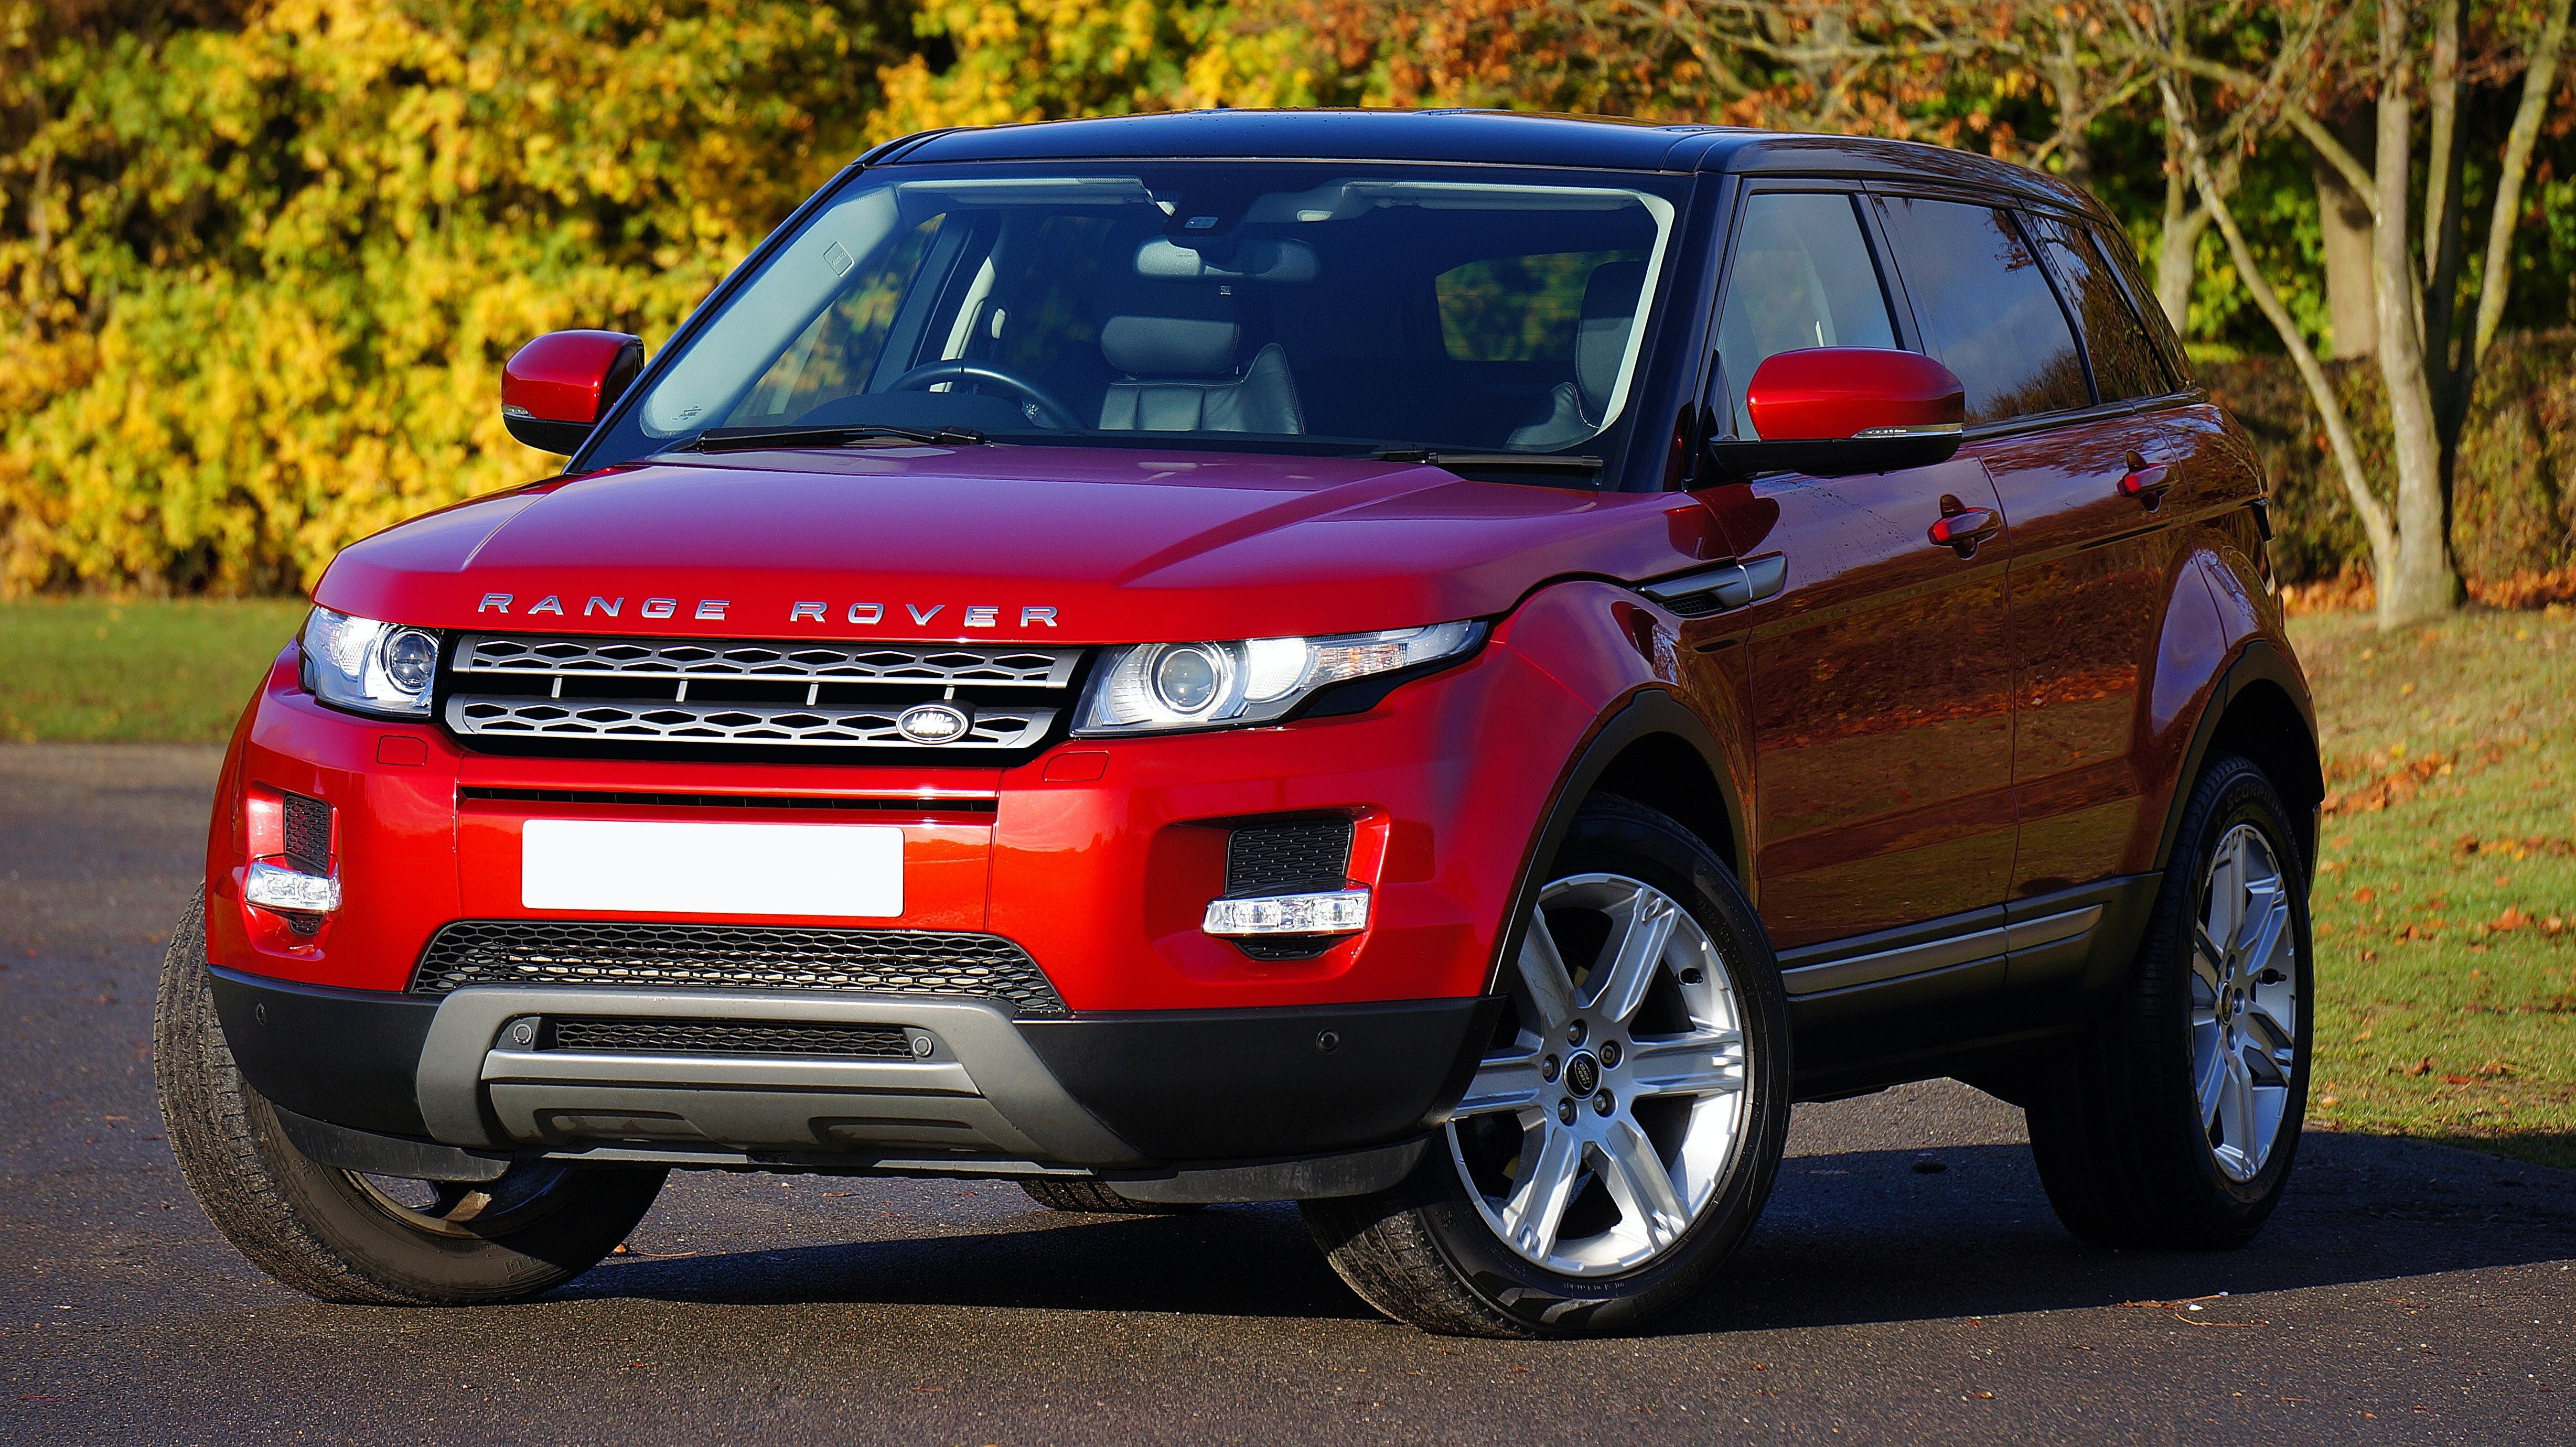range rover: (464, 580, 1092, 642)
